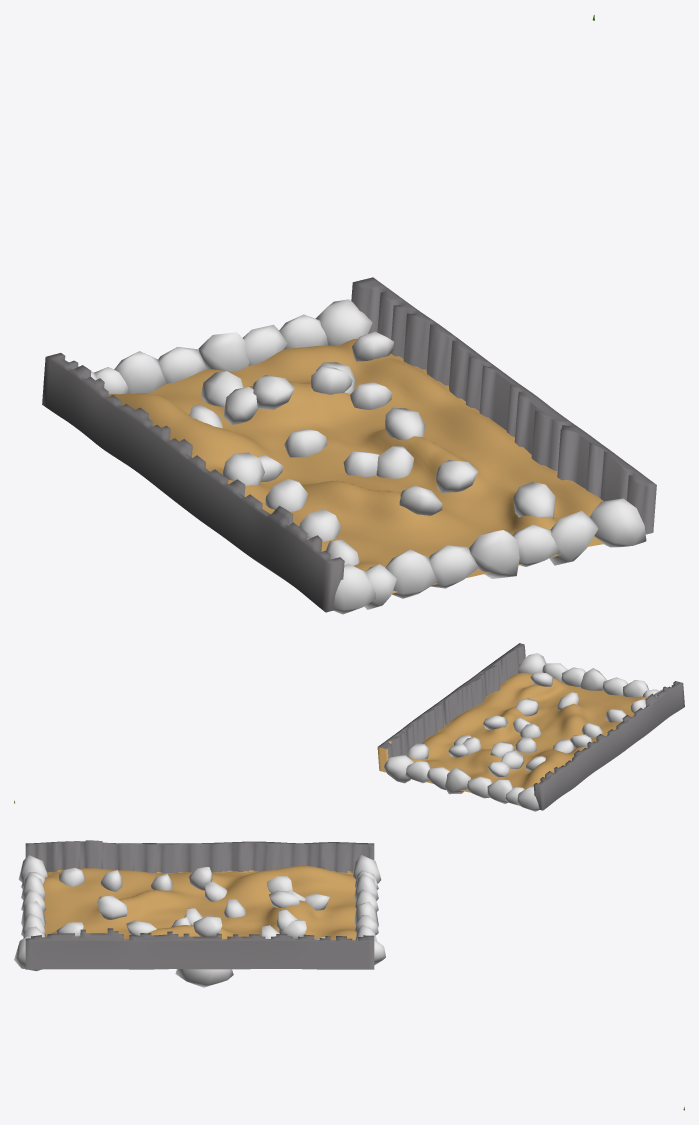
The model's file is OneMap_3.fbx.
3 views of the same model, one above another, from view 1: azimuth 30°, elevation 25°; view 2: azimuth 150°, elevation 25°; view 3: azimuth 270°, elevation 25° (orthographic). The views are drawn at different scales.
Parts seen in each view (by area): view 1: Plane.002, Icosphere.003, Icosphere.004, Icosphere.014, Icosphere.002, Icosphere.006, Icosphere.013, Icosphere.005, Icosphere.011, Icosphere.007, Icosphere.001, Plane.022|Icosphere|Dupli|1 (+17 smaller); view 2: Plane.002, Icosphere.014, Icosphere.013, Icosphere.011, Icosphere.003, Icosphere.004, Icosphere.015, Icosphere.010, Icosphere.012, Icosphere.001, Icosphere.006, Icosphere.016 (+9 smaller); view 3: Plane.002, Icosphere, Plane.022|Icosphere|Dupli|2, Plane.022|Icosphere|Dupli|10, Plane.022|Icosphere|Dupli|16, Icosphere.007, Icosphere.010.
Part boxes in pixels (box(x1,y1,x2,y2)): Plane.002: box(42, 277, 656, 612); Icosphere.003: box(590, 498, 646, 547); Icosphere.004: box(469, 530, 519, 578); Icosphere.014: box(315, 299, 372, 345); Icosphere.002: box(549, 511, 598, 565); Icosphere.006: box(385, 549, 437, 598); Icosphere.013: box(198, 332, 249, 371); Icosphere.005: box(429, 545, 478, 588); Icosphere.011: box(114, 351, 166, 393); Icosphere.007: box(333, 564, 375, 614); Icosphere.001: box(512, 524, 559, 566); Plane.022|Icosphere|Dupli|1: box(513, 482, 555, 518); Plane.002: box(377, 643, 684, 810); Icosphere.014: box(384, 755, 413, 783); Icosphere.013: box(445, 767, 470, 794); Icosphere.011: box(487, 779, 512, 803); Icosphere.003: box(518, 653, 546, 674); Icosphere.004: box(580, 668, 606, 690); Icosphere.015: box(405, 761, 430, 783); Icosphere.010: box(517, 786, 539, 811); Icosphere.012: box(467, 776, 492, 798); Icosphere.001: box(561, 667, 585, 686); Icosphere.006: box(623, 680, 648, 697); Icosphere.016: box(427, 767, 449, 789); Plane.002: box(25, 840, 374, 969); Icosphere: box(175, 969, 233, 987); Plane.022|Icosphere|Dupli|2: box(97, 895, 127, 919); Plane.022|Icosphere|Dupli|10: box(193, 916, 222, 936); Plane.022|Icosphere|Dupli|16: box(269, 890, 299, 908); Icosphere.007: box(18, 855, 47, 882); Icosphere.010: box(352, 855, 381, 883).
Bounding box in the file's own units: 984 × 161 × 1155.
